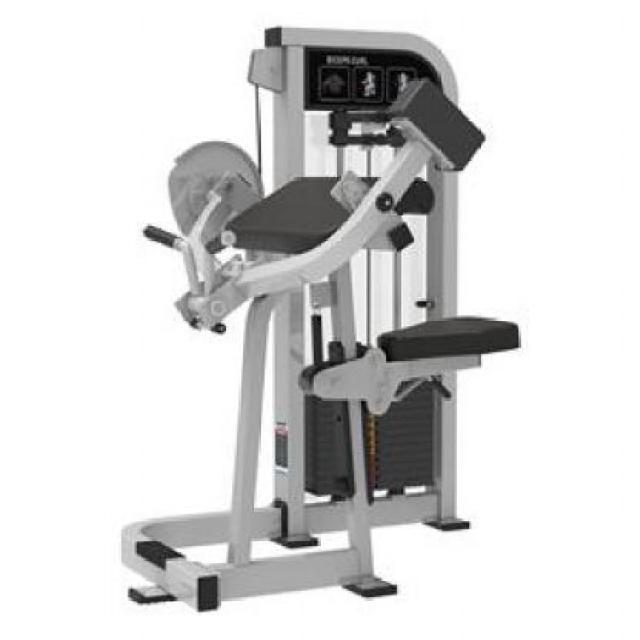arm curl machine: (120, 28, 522, 610)
